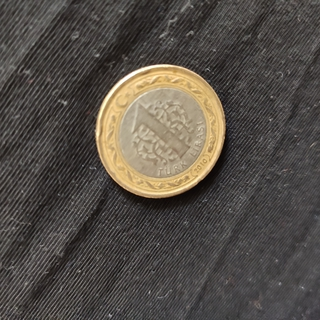1TL: (93, 62, 228, 200)
